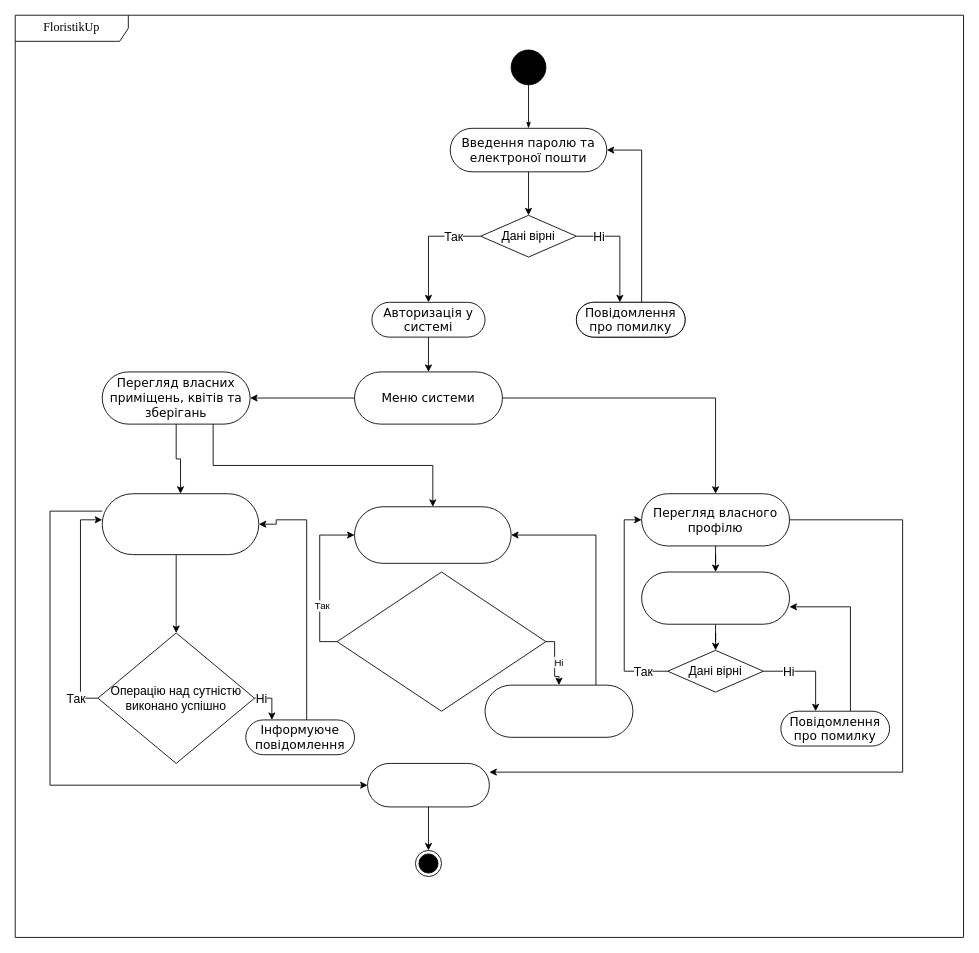
The diagram is 979 pixels wide and 953 high, and some of its shapes have lost their labels. Here are the shapes that lost their labels. From the top down, the box of each, then its label:
(101, 493, 259, 555): Маніпулювання приміщеннями, квітами та зберіганнями
(354, 506, 511, 563): Авоматичний перерозподіл квітів
(641, 571, 790, 624): Редагування профілю
(336, 571, 546, 711): У системі наявні квіти, що зберігаються у невідповідних умовах
(484, 684, 633, 737): Повідомлення, що перерозподіл не виконано
(367, 763, 489, 807): Логаут у системі
